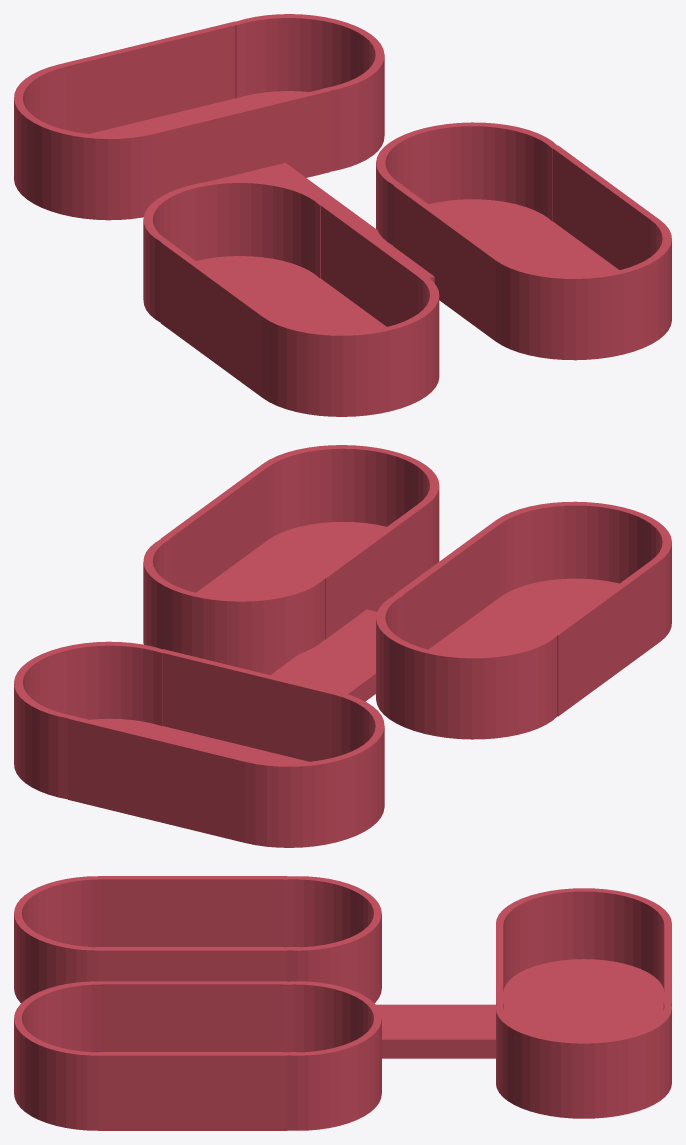
File: ford-e450-switch-cover-triple-drivers.glb
3 views of the same model, one above another, from view 1: azimuth 30°, elevation 25°; view 2: azimuth 150°, elevation 25°; view 3: azimuth 270°, elevation 25° (orthographic). The views are drawn at different scales.
Visible parts, largest first — view 1: Mesh_Mesh_head_geo.001_lambert2SG.001; view 2: Mesh_Mesh_head_geo.001_lambert2SG.001; view 3: Mesh_Mesh_head_geo.001_lambert2SG.001.
Boxes of the visible parts, bbox=[...] form: Mesh_Mesh_head_geo.001_lambert2SG.001: bbox=[14, 14, 671, 416]; Mesh_Mesh_head_geo.001_lambert2SG.001: bbox=[14, 445, 671, 847]; Mesh_Mesh_head_geo.001_lambert2SG.001: bbox=[14, 876, 671, 1130].
Size of the model in its own units: 0.041 by 0.008 by 0.0635.
